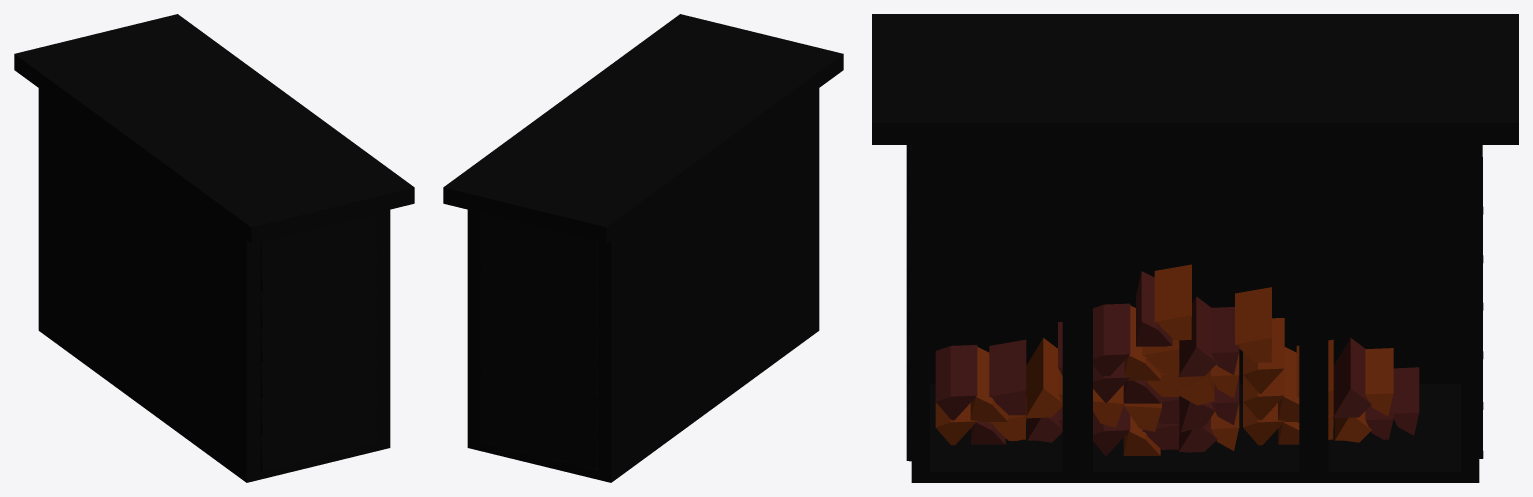
File: woodShed.fbx
3 views of the same model, side by side, from view 1: azimuth 30°, elevation 25°; view 2: azimuth 150°, elevation 25°; view 3: azimuth 270°, elevation 25° (orthographic). The views are drawn at different scales.
Parts seen in each view (by area): view 1: Cube.016; view 2: Cube.016; view 3: Cube.016, Cube.027, Cube.028, Cube.045, Cube.046, Cube.039, Cube.024, Cube.029, Cube.041, Cube.025, Cube.043, Cube.044 (+24 smaller).
Boxes of the visible parts, x1=… form: Cube.016: x1=14, y1=14, x2=414, y2=482; Cube.016: x1=443, y1=14, x2=843, y2=482; Cube.016: x1=872, y1=14, x2=1518, y2=482; Cube.027: x1=935, y1=345, x2=977, y2=420; Cube.028: x1=989, y1=339, x2=1026, y2=415; Cube.045: x1=1154, y1=264, x2=1191, y2=340; Cube.046: x1=1235, y1=287, x2=1271, y2=362; Cube.039: x1=1093, y1=303, x2=1130, y2=376; Cube.024: x1=1332, y1=338, x2=1371, y2=418; Cube.029: x1=1025, y1=338, x2=1062, y2=418; Cube.041: x1=1178, y1=296, x2=1217, y2=376; Cube.025: x1=1365, y1=348, x2=1393, y2=416; Cube.043: x1=1391, y1=367, x2=1419, y2=435; Cube.044: x1=1136, y1=271, x2=1172, y2=346.
Bounding box in the file's own units: 545 × 855 × 1367.
